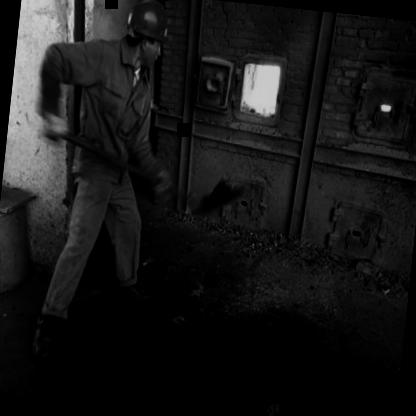helmet: (115, 0, 176, 75)
